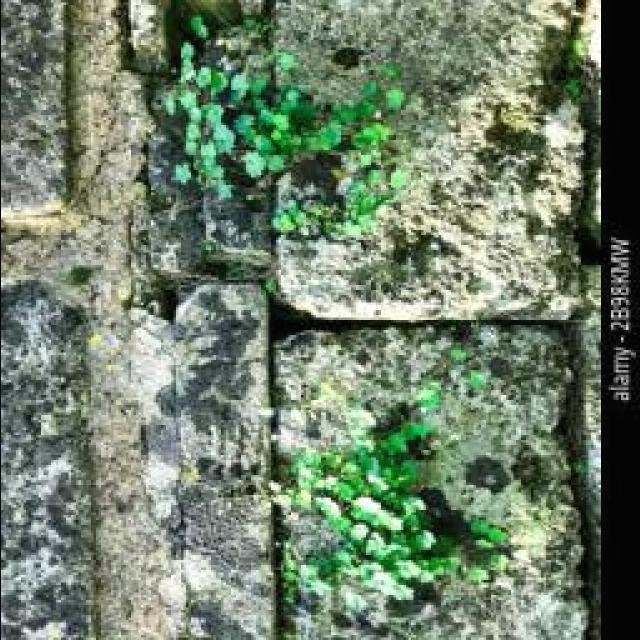Crack: (2, 0, 603, 638)
